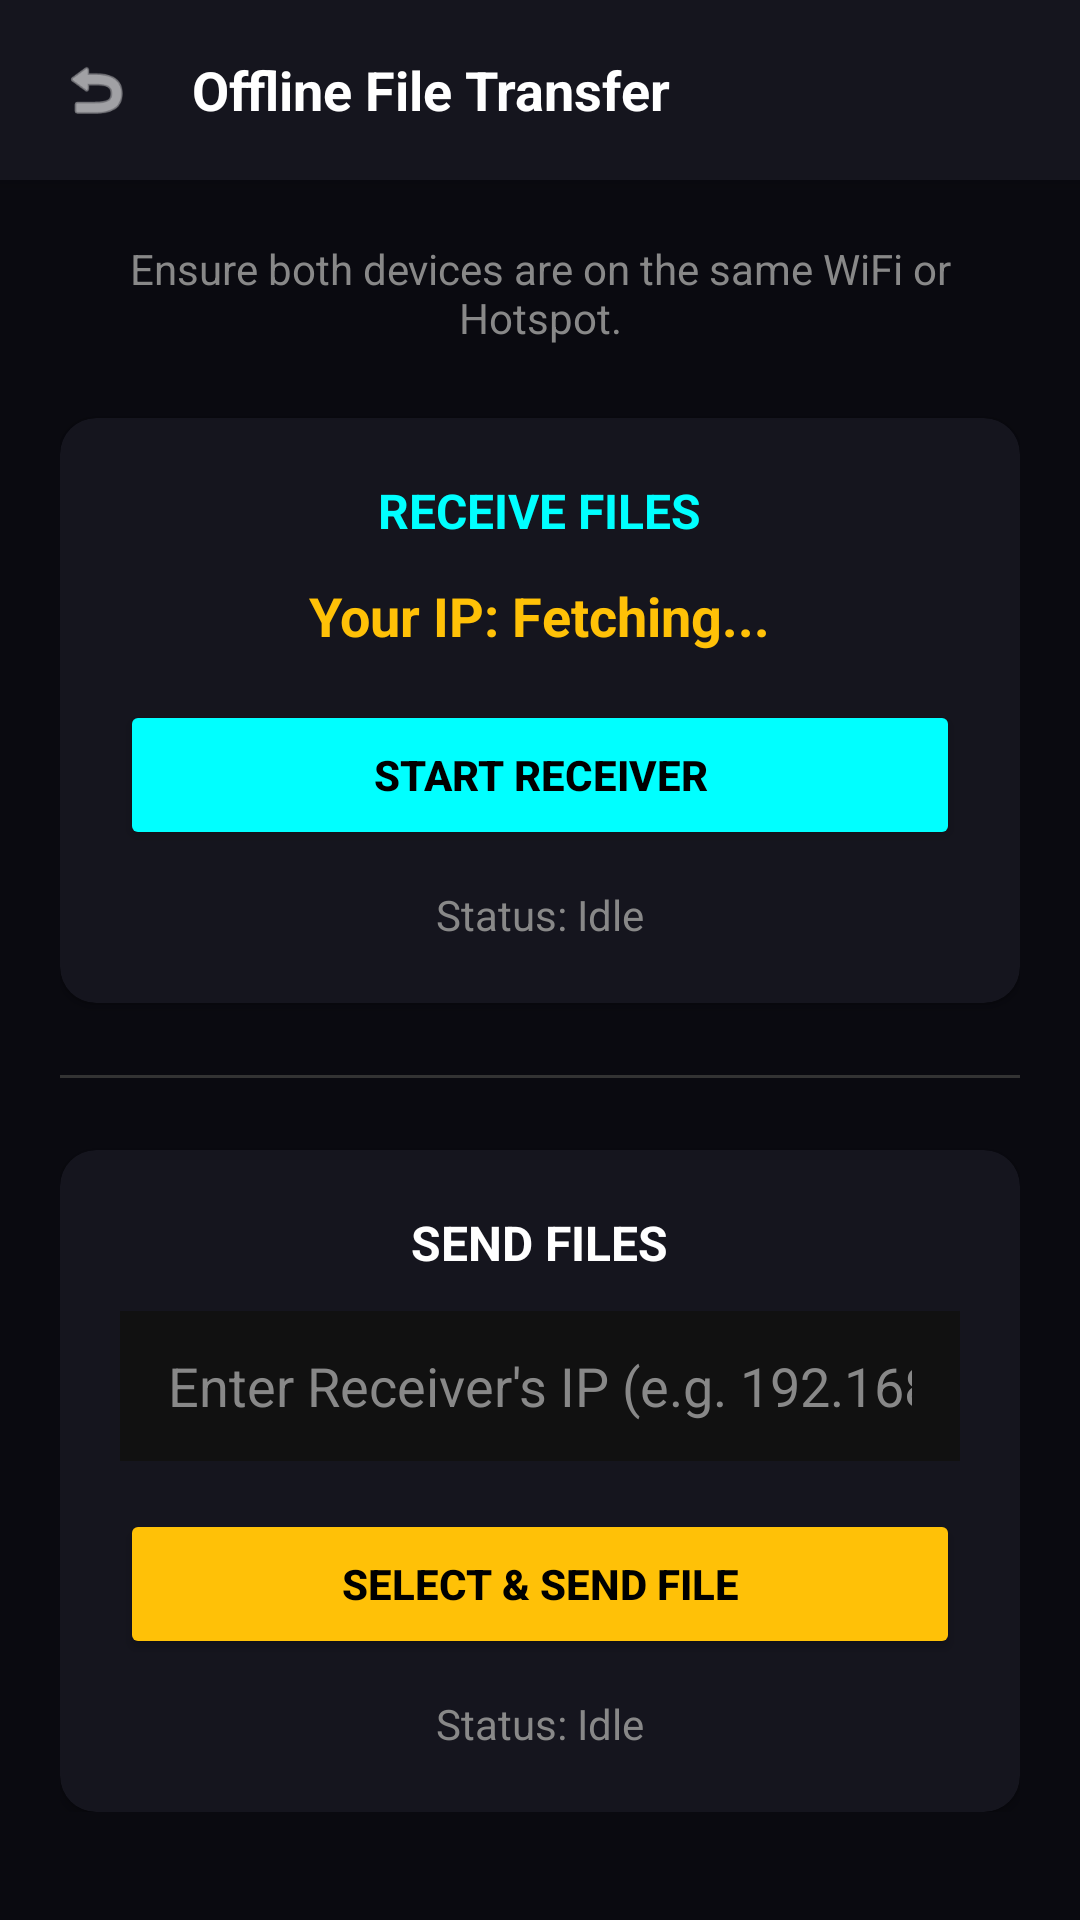

Where to tap for icons on this 1080px×1920px app screen, as (x=x, y=y):
revert: (x=97, y=90)
